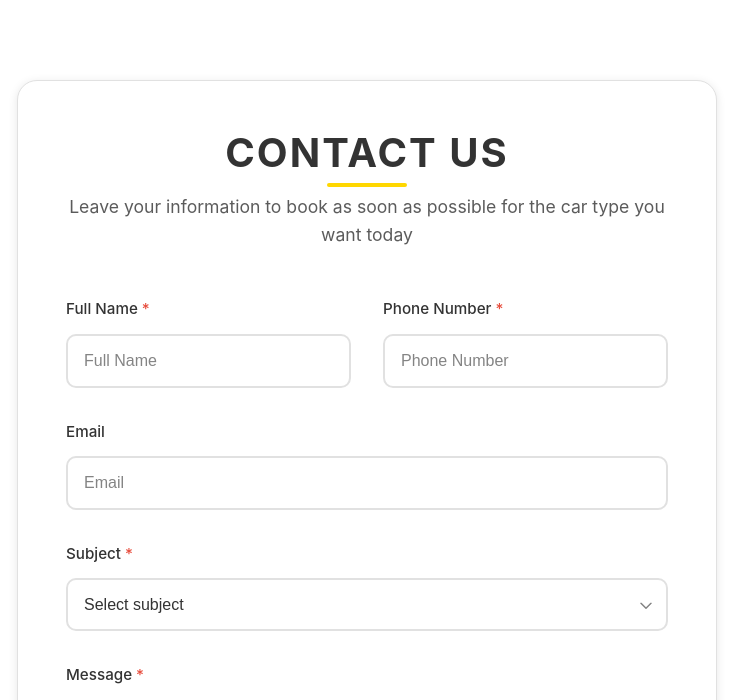
Scenario: ConsultationForm Component › resets form when reset button is clicked
The width and height of the screenshot is (735, 700).
Fill form
Type "John Doe" into the field with placeholder "Full Name".
click(208, 361); type("John Doe")  # box x1=66 y1=334 x2=351 y2=388
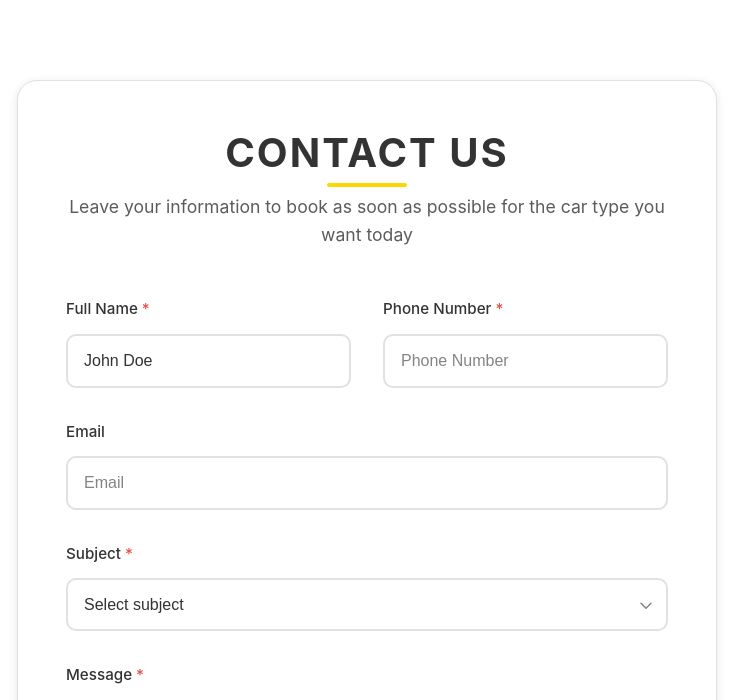
Type "0901234567" into the field with placeholder "Phone Number".
click(526, 361); type("0901234567")  # box x1=383 y1=334 x2=668 y2=388
(page scrolled)
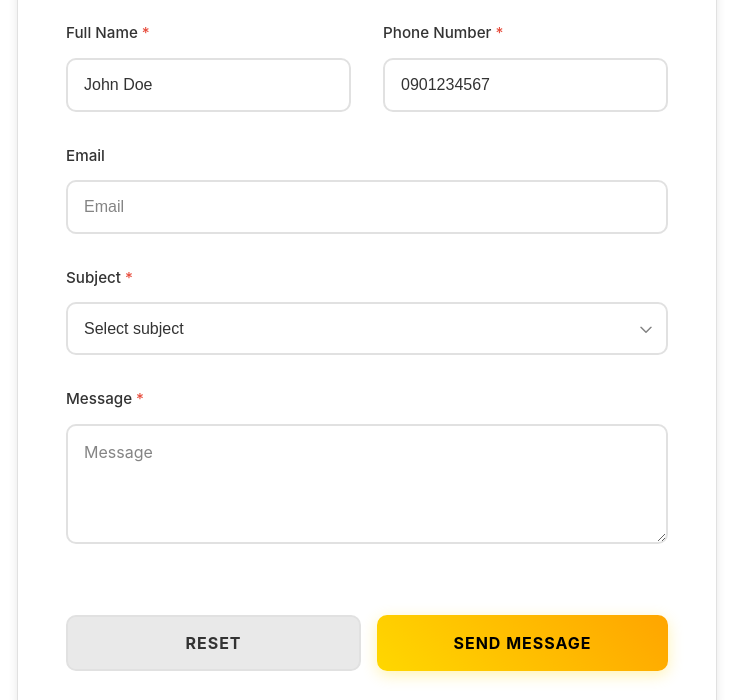
Reset form
Click the button "Reset".
click(214, 643)  # box x1=66 y1=615 x2=361 y2=671
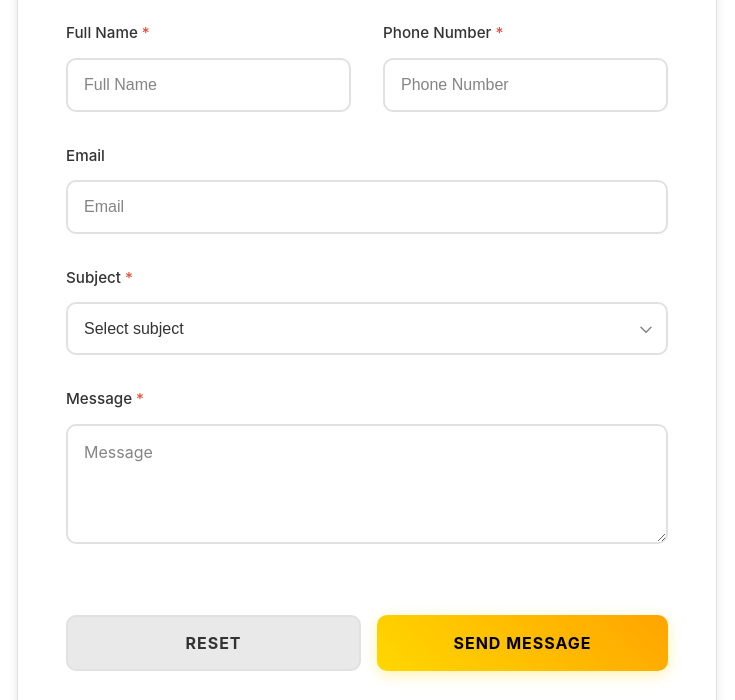
Now the field with placeholder "Full Name" is empty, box x1=66 y1=58 x2=351 y2=112
Now the field with placeholder "Phone Number" is empty, box x1=383 y1=58 x2=668 y2=112
